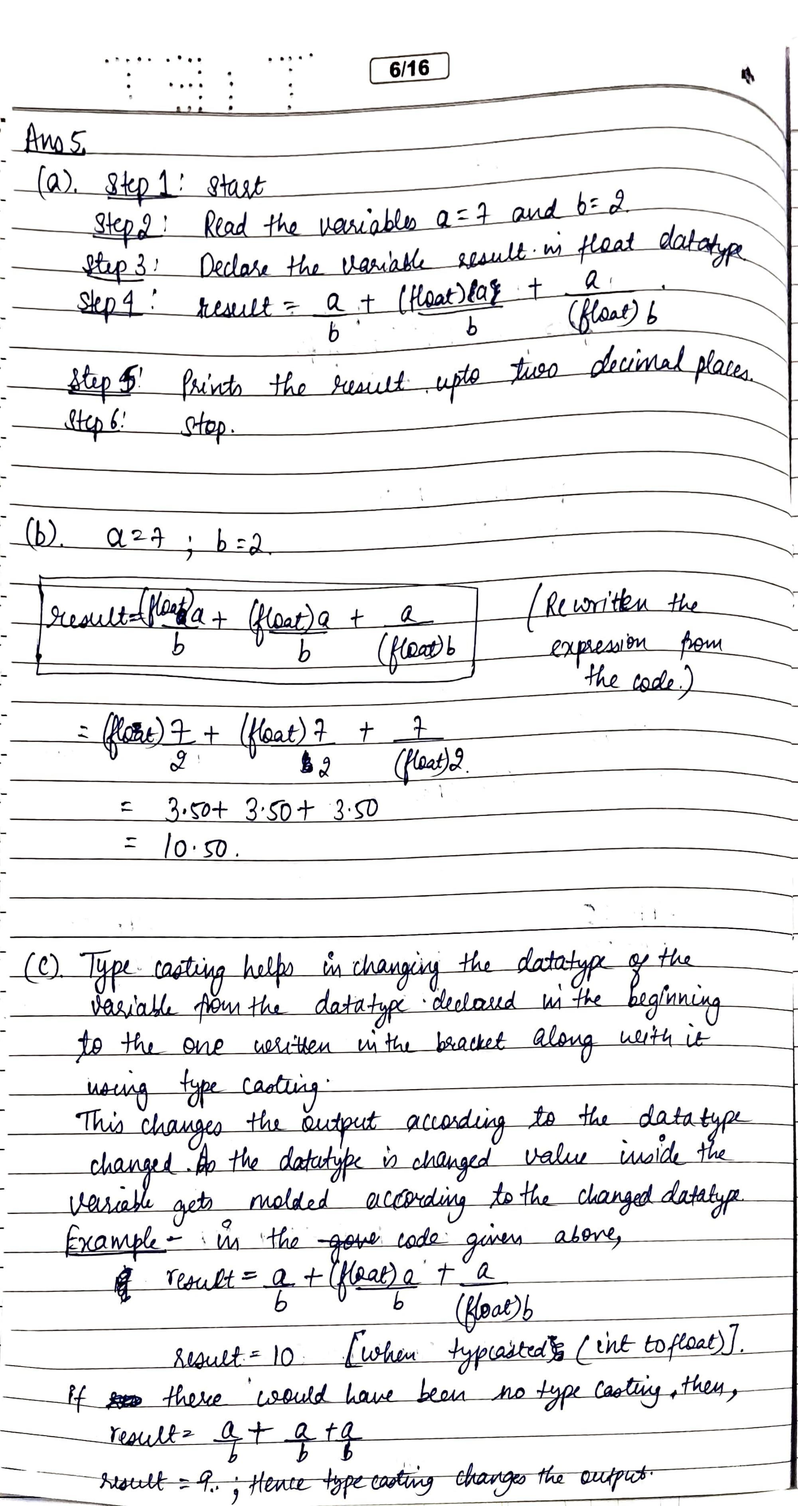cuttings: (316, 1231, 381, 1265), (113, 1264, 135, 1305), (105, 1391, 143, 1411), (546, 1334, 564, 1364), (489, 278, 501, 306), (300, 749, 314, 773), (467, 278, 478, 303), (175, 608, 188, 626)
